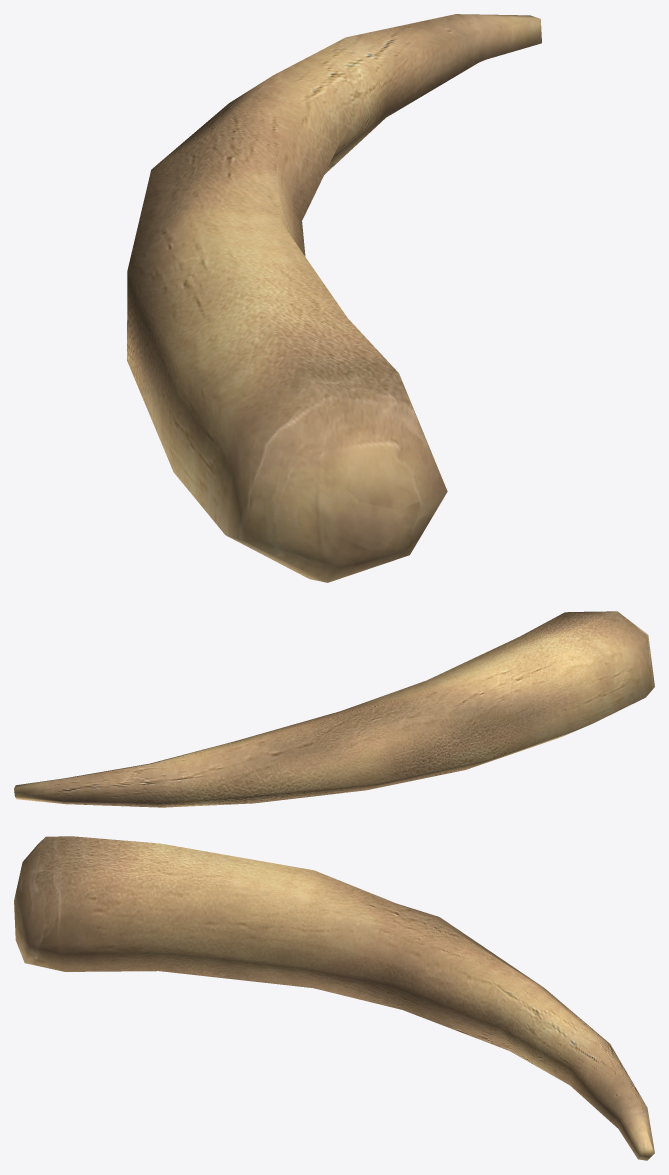
Rendered from bone_08.FBX.
The picture shows the model from 3 angles, top to bottom: view 1: azimuth 30°, elevation 25°; view 2: azimuth 150°, elevation 25°; view 3: azimuth 270°, elevation 25°; orthographic projection. The views are drawn at different scales.
Parts seen in each view (by area): view 1: bone_08; view 2: bone_08; view 3: bone_08.
Part boxes in pixels (x1,y1,x2,y2): bone_08: (127,14,541,582); bone_08: (14,611,654,807); bone_08: (14,836,654,1160).
Size of the model in its own units: 51.65 by 12.66 by 59.79.
